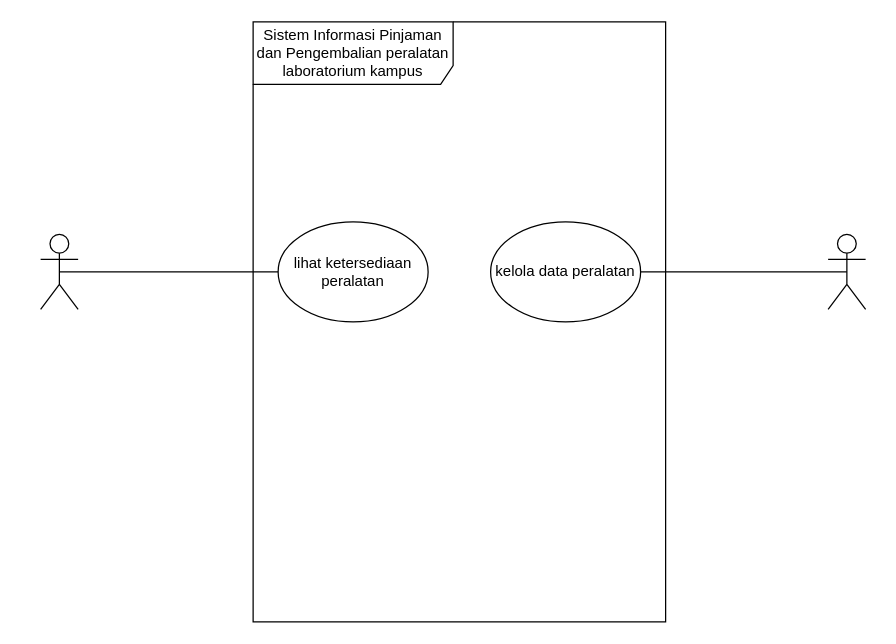
Image size: 896x644. Some labels were removed from this diagram. Each missing label, with the box of its shape:
mahasiswa: (39, 233, 78, 309)
petugas laboran: (827, 233, 866, 309)
